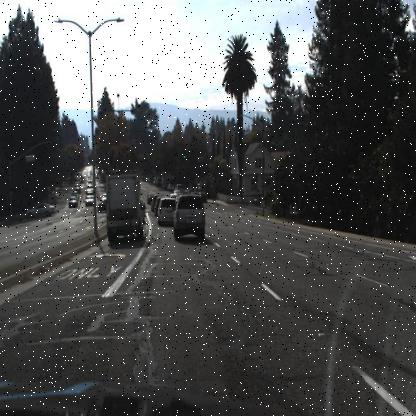car: (173, 193, 206, 242), (156, 196, 176, 229), (24, 202, 55, 220), (252, 186, 276, 208), (96, 196, 108, 218), (150, 194, 158, 215), (173, 180, 183, 191), (69, 196, 77, 209), (166, 180, 174, 191), (101, 192, 107, 203)
truck: (104, 172, 144, 246)
